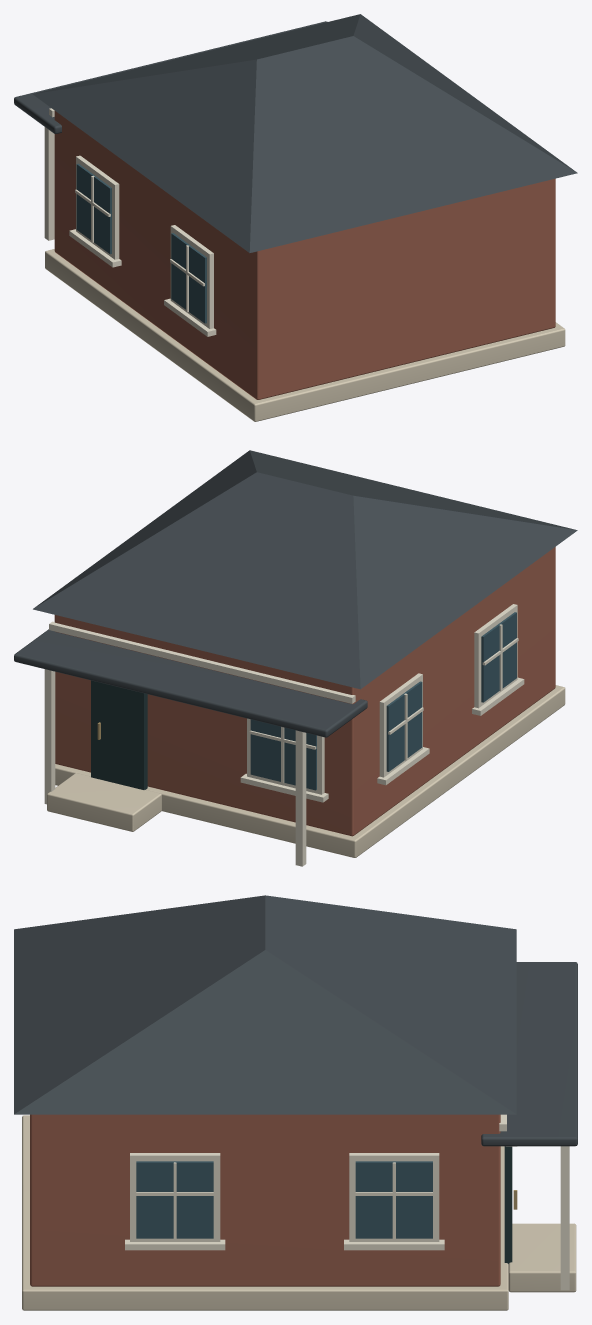
The model's file is gardenBungalow.glb.
The picture shows the model from 3 angles, top to bottom: view 1: azimuth 30°, elevation 25°; view 2: azimuth 150°, elevation 25°; view 3: azimuth 270°, elevation 25°; orthographic projection. The views are drawn at different scales.
Visible parts, largest first — view 1: Slate roof, Terracotta brick, Limestone, Ivory trim, Window glass; view 2: Slate roof, Terracotta brick, Limestone, Ivory trim, Window glass, Dark metal; view 3: Slate roof, Terracotta brick, Limestone, Window glass, Ivory trim, Dark metal.
Part boxes in pixels (left/top/right/bottom): Slate roof: left=14, top=14, right=577, bottom=252; Terracotta brick: left=54, top=111, right=555, bottom=399; Limestone: left=45, top=249, right=565, bottom=421; Ivory trim: left=44, top=108, right=216, bottom=336; Window glass: left=76, top=163, right=206, bottom=323; Slate roof: left=14, top=450, right=577, bottom=737; Terracotta brick: left=54, top=547, right=555, bottom=836; Limestone: left=47, top=685, right=565, bottom=857; Ivory trim: left=44, top=604, right=524, bottom=866; Window glass: left=250, top=612, right=516, bottom=790; Dark metal: left=91, top=680, right=147, bottom=789; Slate roof: left=14, top=895, right=577, bottom=1146; Terracotta brick: left=30, top=1114, right=500, bottom=1286; Limestone: left=22, top=1115, right=576, bottom=1310; Window glass: left=136, top=1161, right=432, bottom=1238; Ivory trim: left=125, top=1114, right=569, bottom=1290; Dark metal: left=504, top=1146, right=512, bottom=1263.
Bounding box in the file's own units: 6.8 × 5.15 × 8.75.
